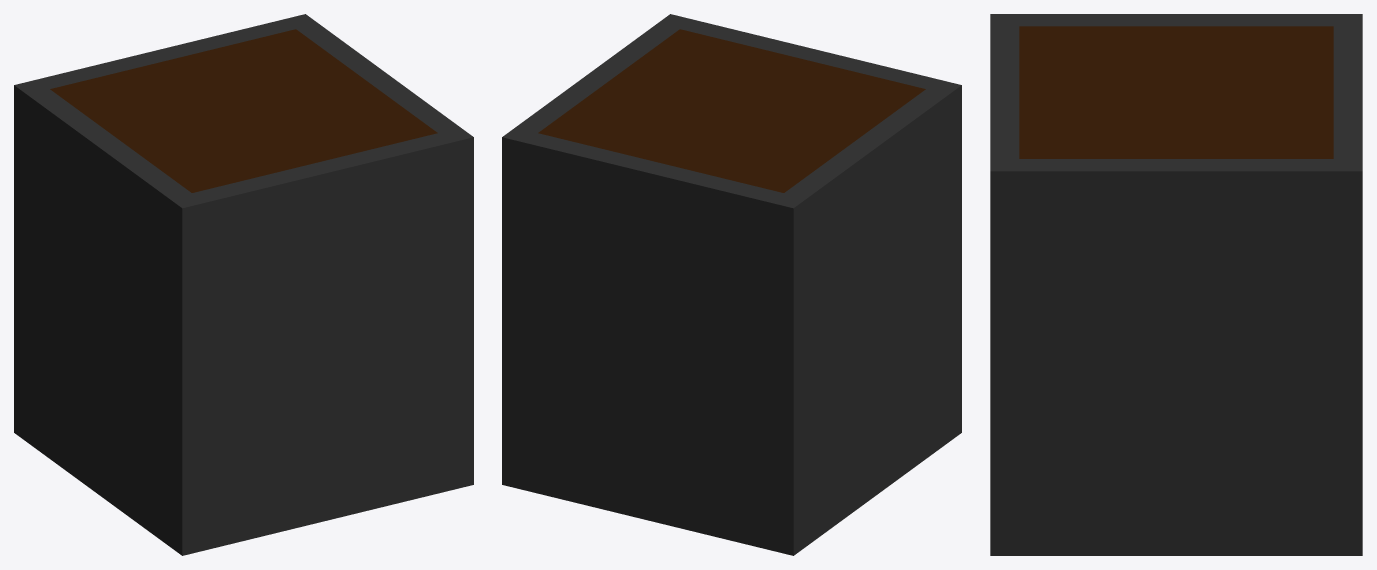
Rendered from insides.fbx.
The picture shows the model from 3 angles, left to right: view 1: azimuth 30°, elevation 25°; view 2: azimuth 150°, elevation 25°; view 3: azimuth 270°, elevation 25°; orthographic projection. The views are drawn at different scales.
Visible parts, largest first — view 1: Cube; view 2: Cube; view 3: Cube.
Part boxes in pixels (x1,y1,x2,y2): Cube: (14, 14, 473, 555); Cube: (502, 14, 961, 555); Cube: (990, 14, 1362, 555).
Size of the model in its own units: 1492 by 1734 by 1492.
